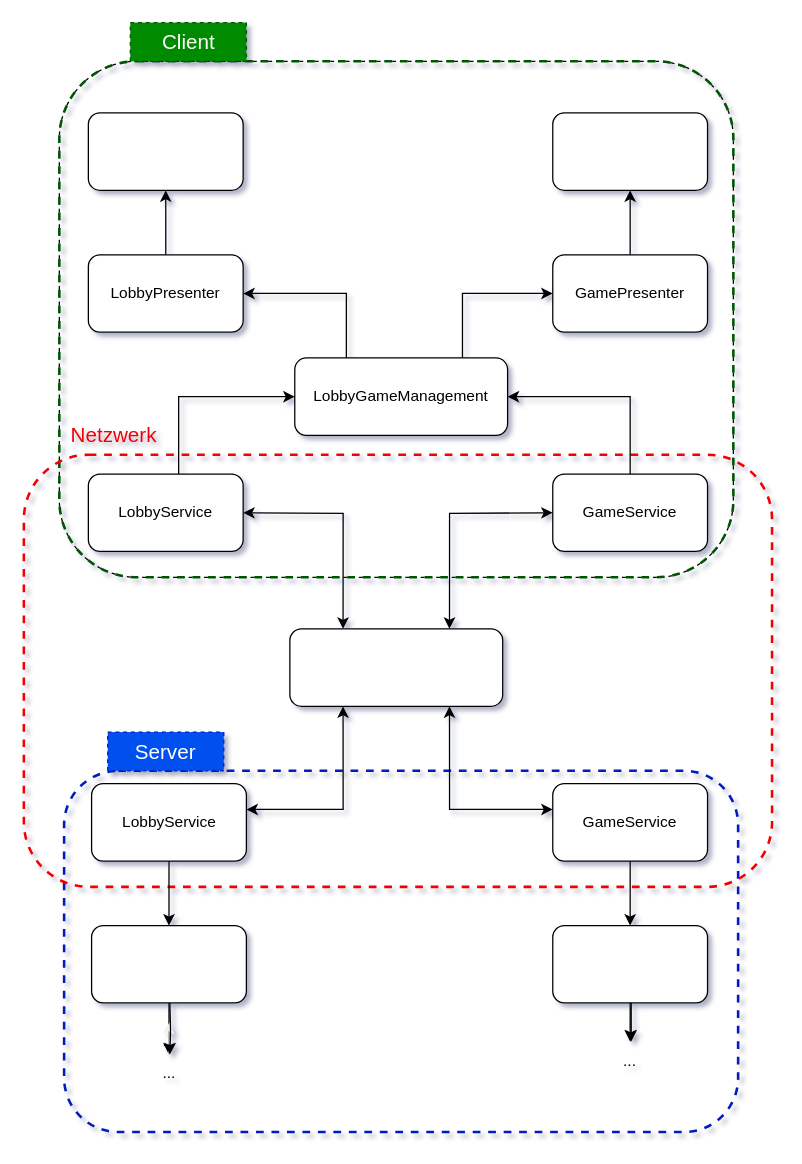
The diagram is 802 pixels wide and 1164 high, and some of its shapes have lost their labels. The centre of each missing label's shape, as x and y in pixels:
GameManagement: (x=629, y=963)
GameView: (x=629, y=151)
LobbyManagement: (x=168, y=963)
LobbyView: (x=165, y=151)
Netzwerkkommunikation (Netty): (x=396, y=667)
